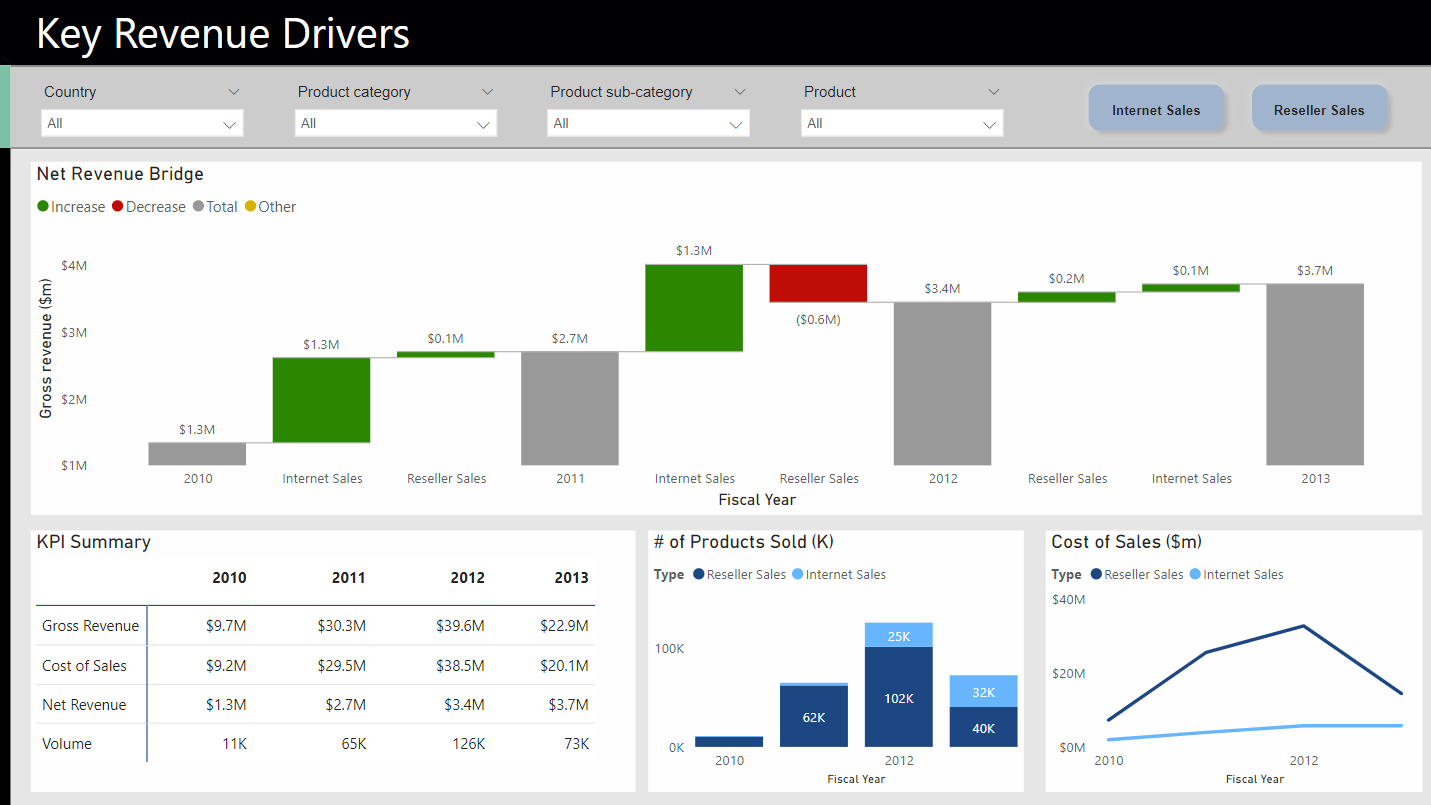

Layout of this report page (visuals, bound fields, positions):
{"tool":"powerbi","page":{"name":"Key Revenue Drivers","canvas":[1280,720],"ordinal":1},"visuals":[{"type":"shape","box":[0,134,1280,586],"z":0},{"type":"textbox","box":[0,0,1280,60],"z":1000},{"type":"shape","box":[0,60,1280,74],"z":2000},{"type":"shape","box":[0,60,12,74],"z":3000},{"type":"shape","box":[0,134,12,586],"z":4000},{"type":"waterfallChart","title":"Net Revenue Bridge","fields":{"Breakdown":["Internet and reseller sales data v2.Type"],"Category":["Combined v2.FY"],"Y":["Sum(Combined v2.Net revenue)"]},"box":[30,146,1238,314],"z":5000},{"type":"slicer","fields":{"Values":["Internet and reseller sales data v2.Country"]},"box":[29,71,200,54],"z":6000},{"type":"slicer","fields":{"Values":["Internet and reseller sales data v2.Product"]},"box":[705,71,200,54],"z":7000},{"type":"slicer","fields":{"Values":["Internet and reseller sales data v2.SubCategory"]},"box":[479.7,71,200,54],"z":8000},{"type":"advancedSlicerVisual","fields":{"Values":["Internet and reseller sales data v2.Type"]},"box":[955,60,301,75],"z":9000},{"type":"columnChart","title":"# of Products Sold (K)","fields":{"Y":["Sum(Internet and reseller sales data v2.Volume)"],"Series":["Internet and reseller sales data v2.Type"],"Category":["Combined v2.FY"]},"box":[580.1,474,334,232.6],"z":10000},{"type":"lineChart","title":"Cost of Sales ($m)","fields":{"Y2":["Sum(Internet and reseller sales data v2.CostOfSales)"],"Series":["Internet and reseller sales data v2.Type"],"Category":["Combined v2.FY"]},"box":[933.5,474,334.8,232.6],"z":11000},{"type":"slicer","fields":{"Values":["Internet and reseller sales data v2.Category"]},"box":[254.3,71,200,54],"z":12000},{"type":"pivotTable","title":"KPI Summary","fields":{"Values":["Sum(Combined v2.Gross revenue)","Sum(Combined v2.Cost of Sales)","Sum(Combined v2.Net revenue)","Sum(Combined v2.Volume)"],"Columns":["Combined v2.Fiscal Year"]},"box":[30.2,474,538.3,232.6],"z":13000}]}

Visuals, with their boxes in screenshot pixels (x1, y1, x2, y2), scaled from the page's 1280x720 canvas onto the 1431x805 screenshot:
shape: (0,150,1430,804)
textbox: (0,0,1430,67)
shape: (0,67,1430,150)
shape: (0,67,13,150)
shape: (0,150,13,804)
"Net Revenue Bridge" waterfallChart: (34,163,1418,514)
slicer - Internet and reseller sales data v2.Country: (32,79,256,140)
slicer - Internet and reseller sales data v2.Product: (788,79,1012,140)
slicer - Internet and reseller sales data v2.SubCategory: (536,79,760,140)
advancedSlicerVisual - Internet and reseller sales data v2.Type: (1068,67,1404,151)
"# of Products Sold (K)" columnChart: (649,530,1022,790)
"Cost of Sales ($m)" lineChart: (1044,530,1418,790)
slicer - Internet and reseller sales data v2.Category: (284,79,508,140)
"KPI Summary" pivotTable: (34,530,636,790)
